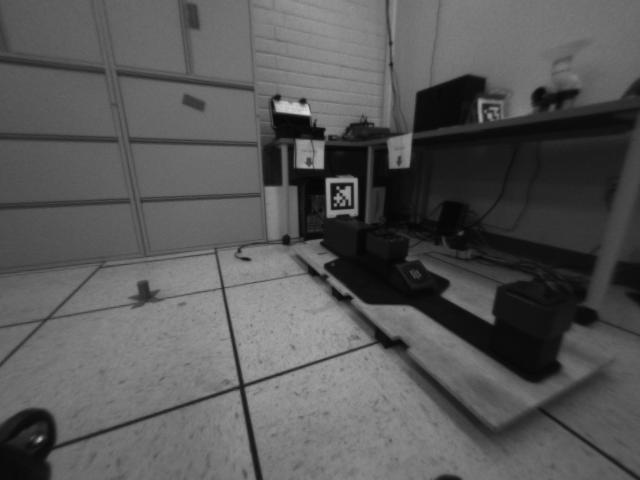X: (128, 281, 161, 307)
